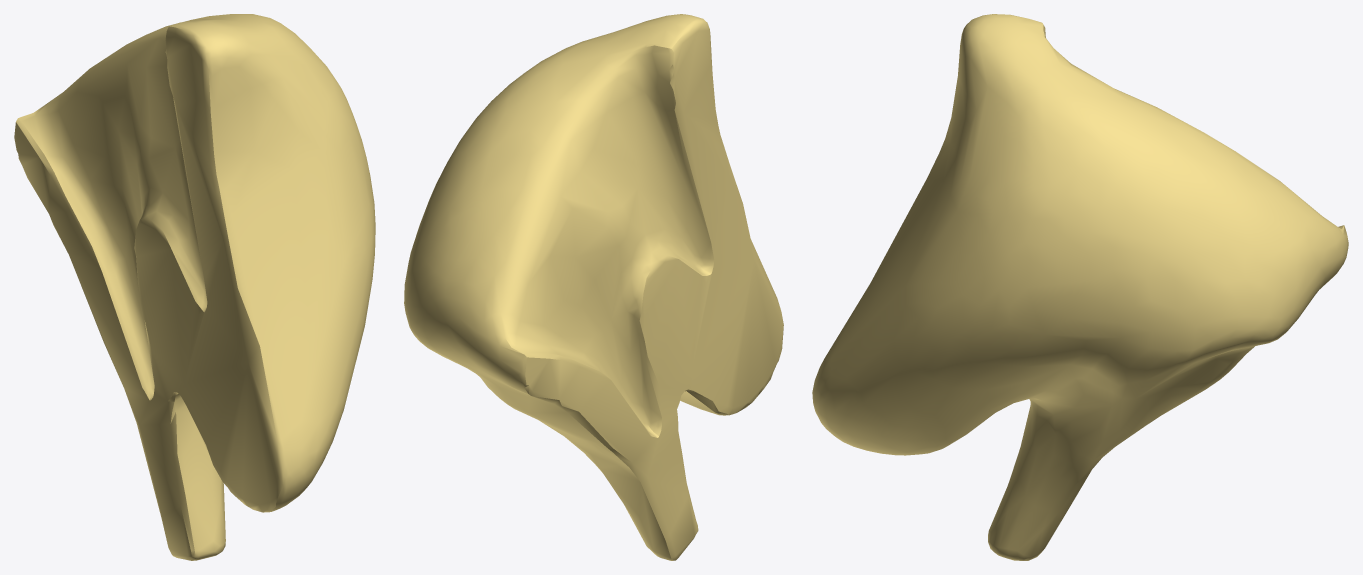
File: fma62008_fj1760.glb
3 renders of one model, left to right at view 1: azimuth 30°, elevation 25°; view 2: azimuth 150°, elevation 25°; view 3: azimuth 270°, elevation 25°, orthographic. The views are drawn at different scales.
Visible parts, largest first — view 1: FMA62008_FJ1760; view 2: FMA62008_FJ1760; view 3: FMA62008_FJ1760.
Boxes of the visible parts, box(x1,y1,x2,y2) form: FMA62008_FJ1760: box(14, 14, 375, 560); FMA62008_FJ1760: box(404, 14, 783, 560); FMA62008_FJ1760: box(812, 14, 1348, 560).
Size of the model in its own units: 0.00761 by 0.0199 by 0.0179.
